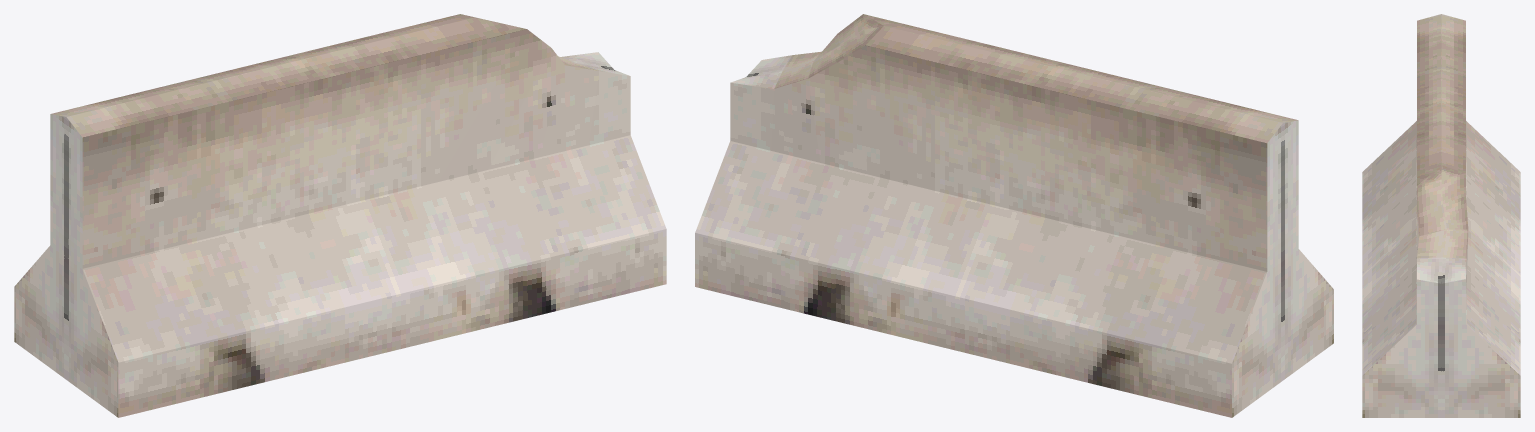
File: barrier1.glb
3 views of the same model, side by side, from view 1: azimuth 30°, elevation 25°; view 2: azimuth 150°, elevation 25°; view 3: azimuth 270°, elevation 25° (orthographic). The views are drawn at different scales.
Parts seen in each view (by area): view 1: Jersey_barrier_broken_edge_concrete_barriers_0; view 2: Jersey_barrier_broken_edge_concrete_barriers_0; view 3: Jersey_barrier_broken_edge_concrete_barriers_0.
Boxes of the visible parts, x1=… form: Jersey_barrier_broken_edge_concrete_barriers_0: x1=14, y1=14, x2=666, y2=417; Jersey_barrier_broken_edge_concrete_barriers_0: x1=695, y1=14, x2=1333, y2=417; Jersey_barrier_broken_edge_concrete_barriers_0: x1=1362, y1=14, x2=1520, y2=417.
Size of the model in its own units: 2.48 by 1.14 by 0.8144.
Materials: 1 (1 with a texture image).
